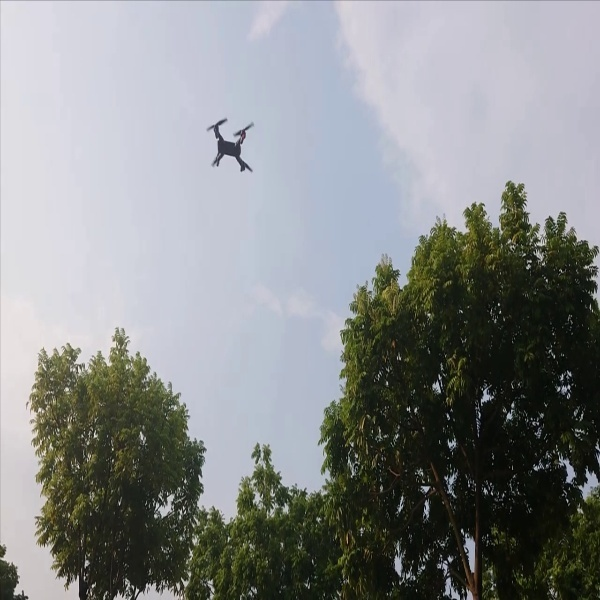drone: (198, 112, 266, 181)
